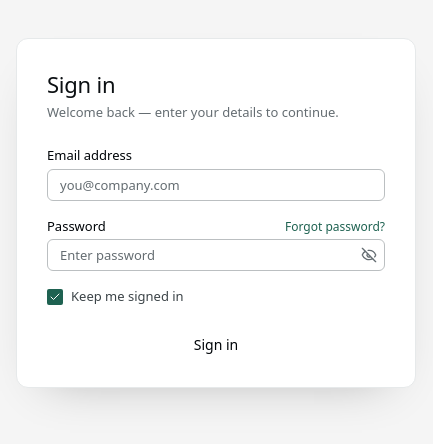
LoginPage › shows design-system field errors for missing credentials
The image size is (433, 444).
Click the button "Sign in" at (216, 345), box [47,335,385,355]
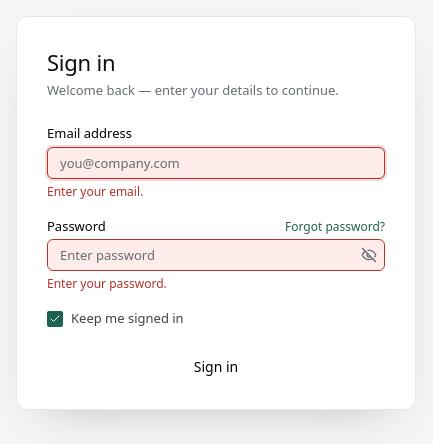
Now the text "Enter your email." is shown, box [47,182,143,200]
Now the text "Enter your password." is shown, box [47,275,167,292]
